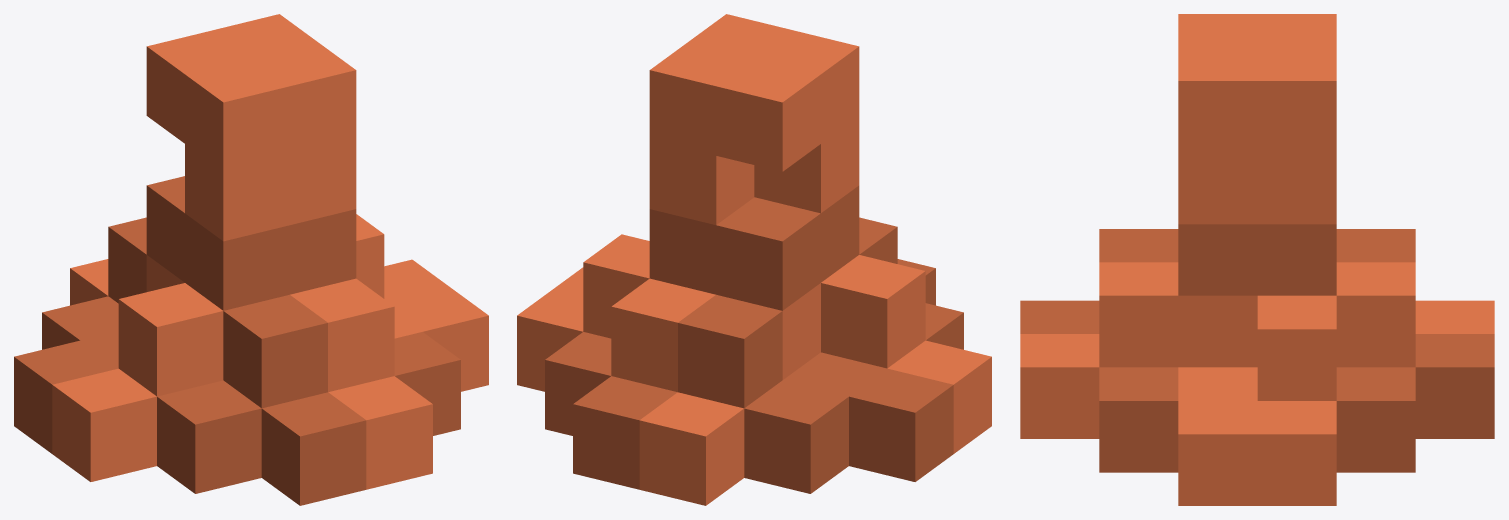
The model's file is SMOL-BOSH-2.obj.
3 renders of one model, left to right at view 1: azimuth 30°, elevation 25°; view 2: azimuth 150°, elevation 25°; view 3: azimuth 270°, elevation 25°, orthographic. The views are drawn at different scales.
Bounding box in the file's own units: 0.6 × 0.5 × 0.6.
1 material, 1 textured.
